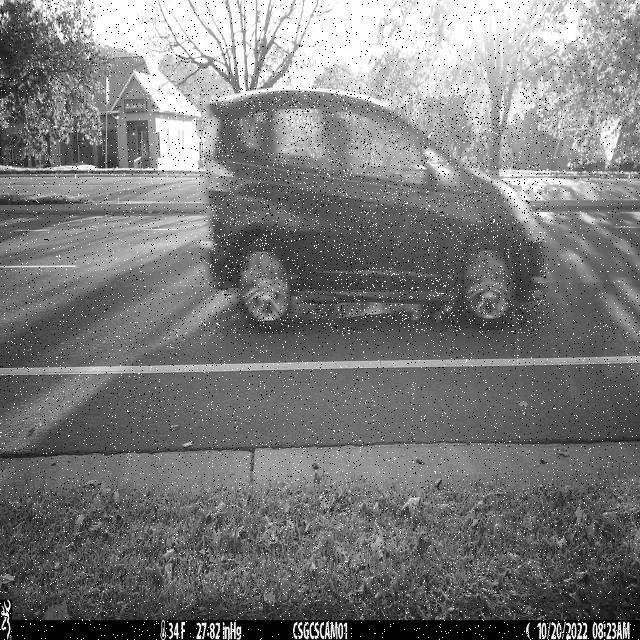Hatchback: (199, 88, 549, 334)
